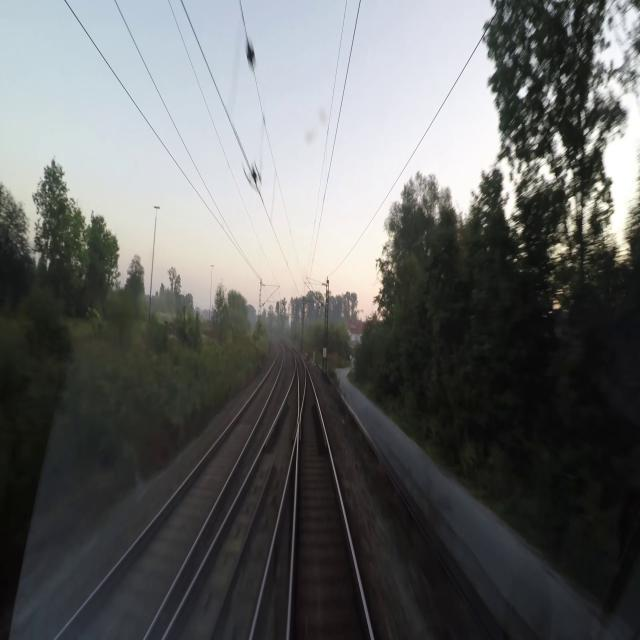rail-track: (60, 345, 281, 639), (166, 376, 296, 639), (291, 376, 369, 639), (295, 353, 303, 400)
